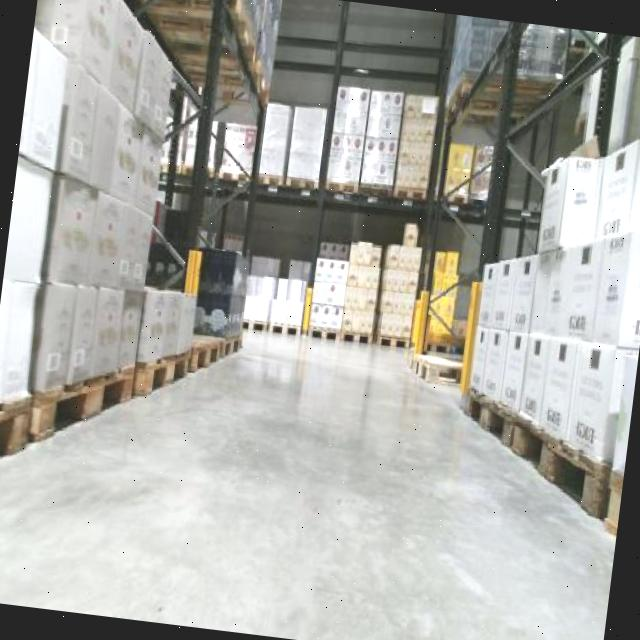pallet: (503, 397, 614, 524), (29, 356, 138, 454), (453, 381, 513, 456), (137, 342, 195, 405), (188, 335, 221, 376), (372, 331, 412, 358), (392, 183, 428, 206), (282, 172, 321, 192), (267, 318, 303, 339), (323, 175, 359, 196), (305, 326, 341, 346), (338, 328, 374, 348), (216, 163, 251, 183)
